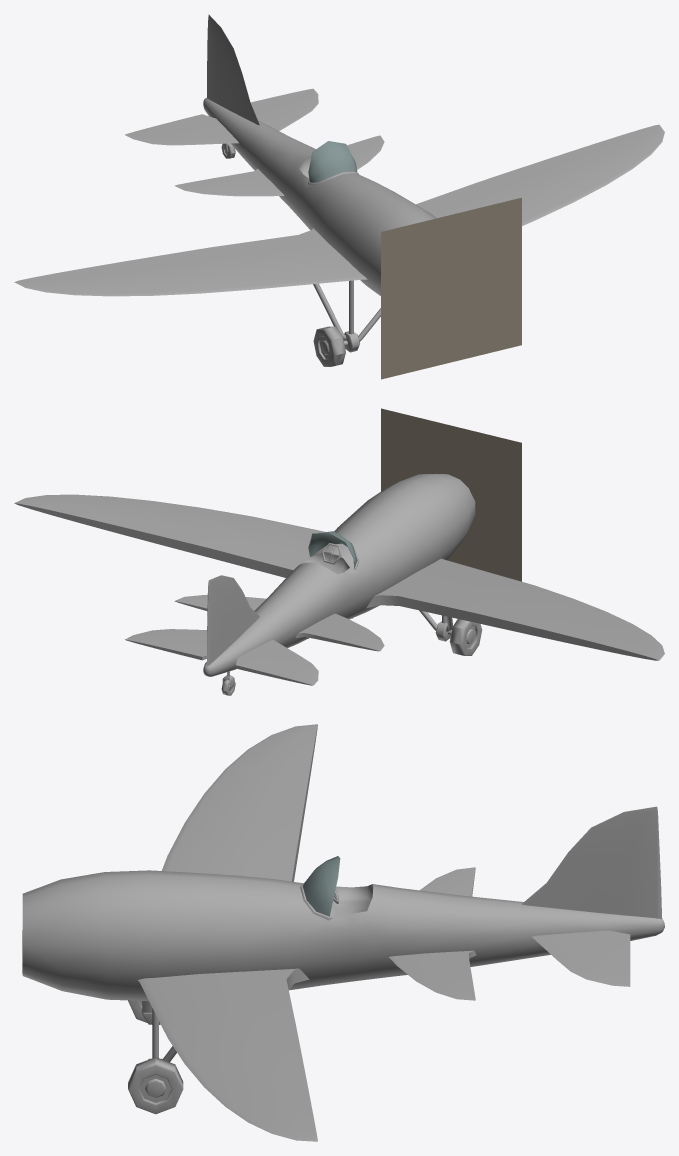
The model's file is a3d_plane_mesh-propeller_02.fbx.
3 renders of one model, top to bottom at view 1: azimuth 30°, elevation 25°; view 2: azimuth 150°, elevation 25°; view 3: azimuth 270°, elevation 25°, orthographic. The views are drawn at different scales.
Parts seen in each view (by area): view 1: Wing_Big, Propeller_Alpha, Body, Tail_Sides, Tail_Up, Wing_Small, Visor, Wheels_Base, Wheels_Holder; view 2: Wing_Big, Body, Propeller_Alpha, Tail_Sides, Tail_Up, Wing_Small, Wheels_Base, Visor, Wheels_Holder; view 3: Body, Wing_Big, Tail_Up, Wing_Small, Tail_Sides, Wheels_Base, Visor, Wheels_Holder.
Part boxes in pixels (left/top/right/bottom): Wing_Big: left=14, top=124, right=664, bottom=296; Propeller_Alpha: left=381, top=197, right=521, bottom=379; Body: left=203, top=98, right=436, bottom=295; Tail_Sides: left=125, top=88, right=318, bottom=145; Tail_Up: left=207, top=14, right=259, bottom=125; Wing_Small: left=174, top=135, right=384, bottom=196; Visor: left=308, top=141, right=357, bottom=182; Wheels_Base: left=221, top=143, right=345, bottom=366; Wheels_Holder: left=222, top=143, right=380, bottom=352; Wing_Big: left=14, top=494, right=664, bottom=660; Body: left=203, top=473, right=475, bottom=676; Propeller_Alpha: left=381, top=408, right=521, bottom=581; Tail_Sides: left=125, top=629, right=318, bottom=685; Tail_Up: left=207, top=575, right=259, bottom=665; Wing_Small: left=174, top=595, right=384, bottom=651; Wheels_Base: left=221, top=619, right=482, bottom=695; Visor: left=308, top=531, right=357, bottom=567; Wheels_Holder: left=222, top=610, right=452, bottom=688; Body: left=22, top=870, right=664, bottom=1000; Wing_Big: left=138, top=724, right=317, bottom=1141; Tail_Up: left=522, top=806, right=662, bottom=918; Wing_Small: left=388, top=867, right=476, bottom=1000; Tail_Sides: left=532, top=930, right=630, bottom=986; Wheels_Base: left=128, top=1000, right=183, bottom=1114; Visor: left=302, top=856, right=340, bottom=916; Wheels_Holder: left=141, top=1001, right=176, bottom=1062.
Size of the model in its own units: 9.96 by 2.89 by 6.56.
